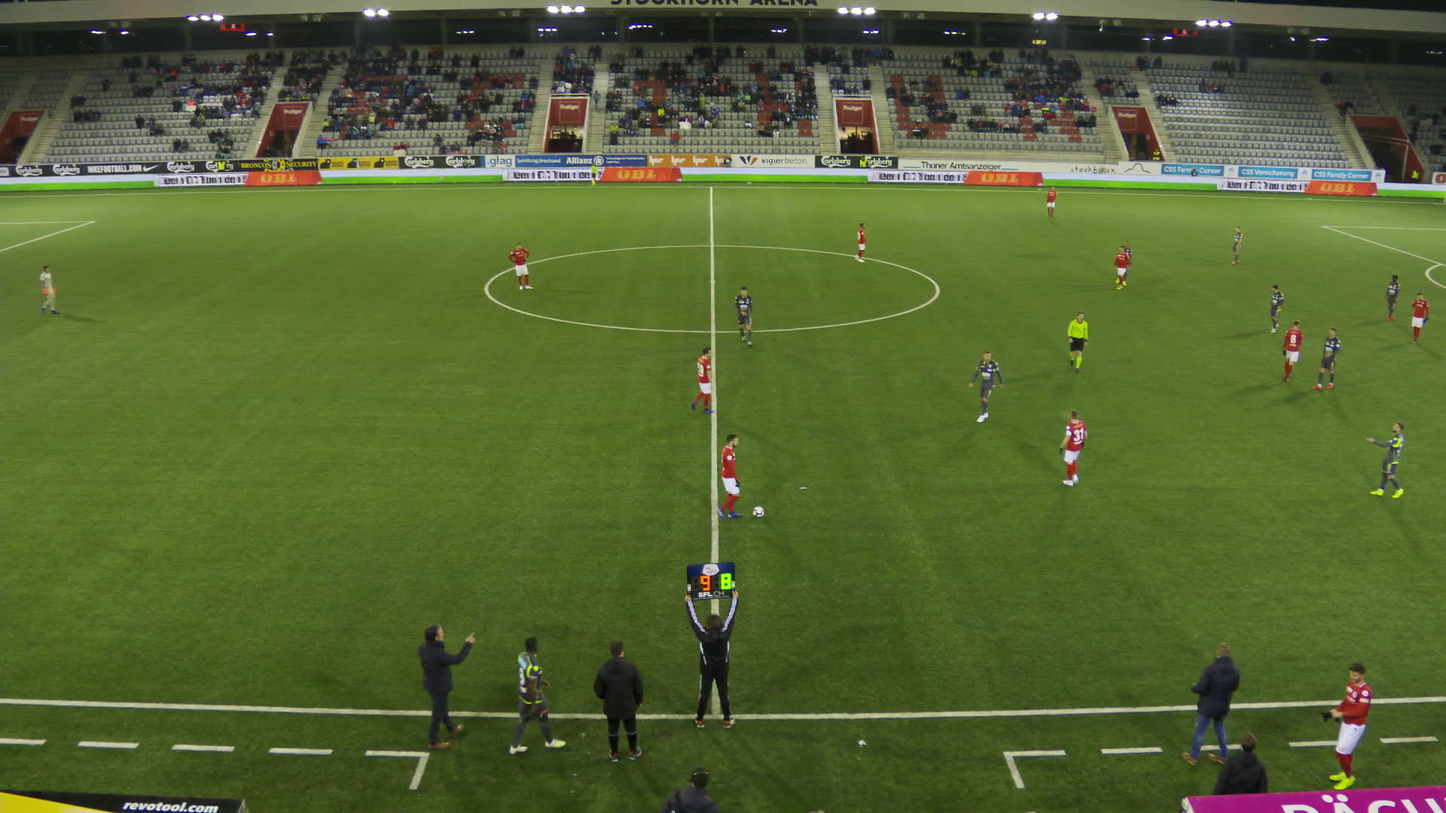ball: (750, 506, 764, 519)
player: (508, 636, 566, 754), (1323, 662, 1373, 790), (1362, 421, 1402, 498), (710, 434, 744, 521), (968, 352, 1002, 422), (1057, 410, 1087, 487), (686, 348, 715, 415), (1311, 327, 1340, 390), (1280, 319, 1303, 381), (506, 242, 532, 291), (732, 285, 752, 346), (35, 266, 59, 315), (1410, 291, 1429, 344), (1266, 284, 1283, 333), (1383, 274, 1400, 321), (1111, 245, 1128, 290), (851, 221, 866, 262), (1120, 240, 1131, 287), (1230, 225, 1242, 264), (1045, 185, 1057, 218)
referee: (1066, 312, 1087, 374), (588, 161, 598, 186)
